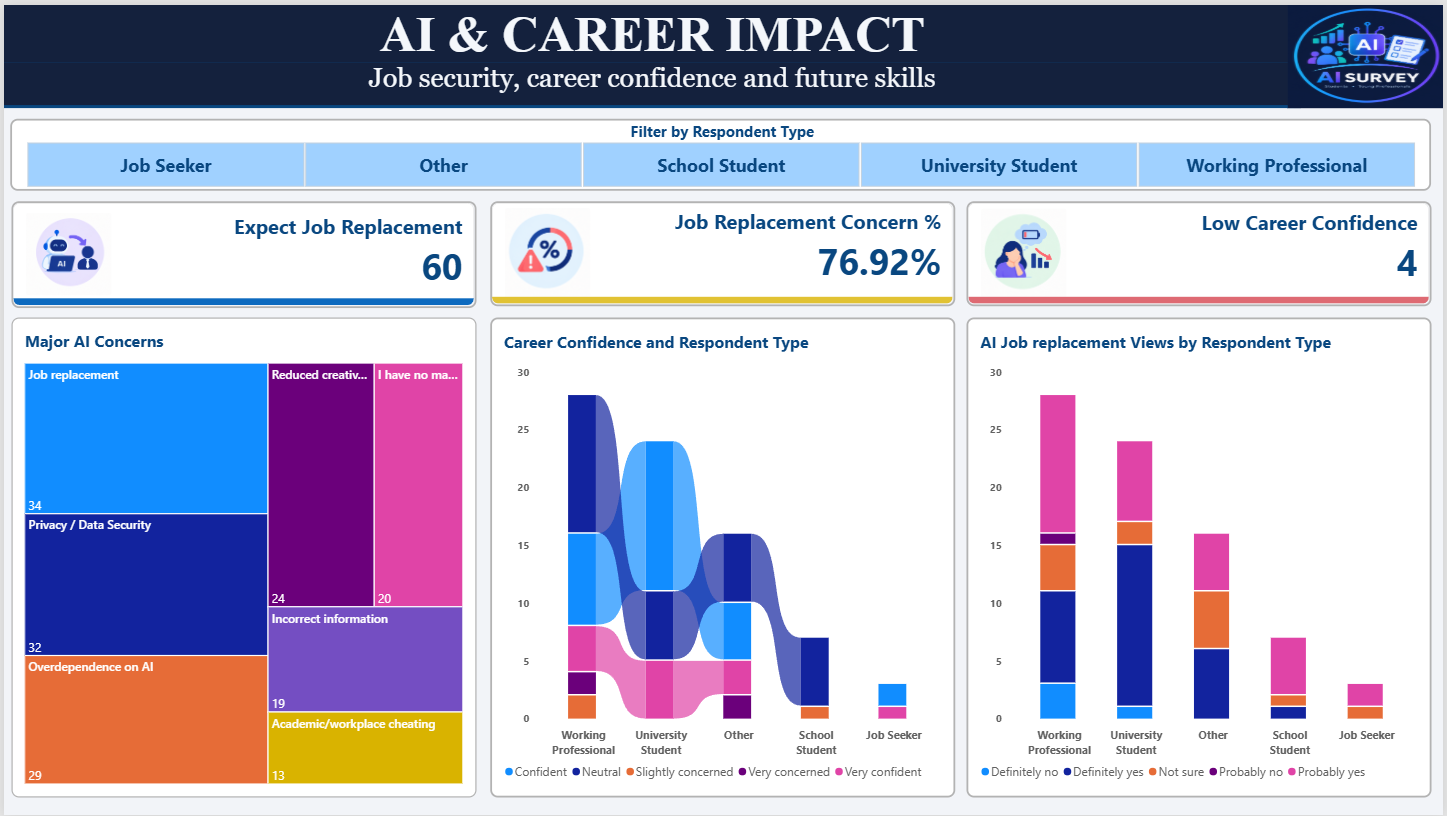

This screenshot's page, from the dashboard's own definition file:
{"tool":"powerbi","page":{"name":"AI & Career Impact","canvas":[1920,1080],"ordinal":2},"visuals":[{"type":"textbox","title":"AI & CAREER IMPACT ","box":[0,0,1728.5,92.4],"z":0},{"type":"textbox","title":"Job security, career confidence and future skills","box":[0,76.7,1728.5,61],"z":1000},{"type":"cardVisual","fields":{"Data":["AI Survey.Expect Job Replacement"]},"box":[10.5,261.6,620,142],"z":2000},{"type":"cardVisual","fields":{"Data":["AI Survey.Job Replacement Concern %"]},"box":[648.8,261.6,620,140],"z":3000},{"type":"cardVisual","fields":{"Data":["AI Survey.Low Career Confidence"]},"box":[1283.7,261.6,620,140],"z":4000},{"type":"slicer","title":"Filter by Respondent Type","fields":{"Values":["AI Survey.Respondent_Type "]},"box":[8.7,151.7,1894.2,95.9],"z":5000},{"type":"treemap","title":"Major AI Concerns","fields":{"Group":["AI Concerns.Concerns"],"Values":["CountNonNull(AI Concerns.Respondent_ID)"]},"box":[10,416,620,640],"z":6000},{"type":"ribbonChart","title":"Career Confidence and Respondent Type","fields":{"Category":["AI Survey.Respondent_Type "],"Series":["AI Survey.Career_Confidence "],"Y":["CountNonNull(AI Survey.Respondent_ID)"]},"box":[648,416,620,640],"z":7000},{"type":"columnChart","title":"AI Job replacement Views by Respondent Type","fields":{"Category":["AI Survey.Respondent_Type "],"Series":["AI Survey.AI_Job_Replacement_View "],"Y":["CountNonNull(AI Survey.Respondent_ID)"]},"box":[1284,416,620,640],"z":8000},{"type":"image","box":[1711.1,0,209.3,137.8],"z":9000}]}

Visuals, with their boxes in screenshot pixels (x1, y1, x2, y2), scaled from the page's 1920x1080 canvas onto the 1447x816 screenshot:
"AI & CAREER IMPACT " textbox: (0,0,1303,70)
"Job security, career confidence and future skills" textbox: (0,58,1303,104)
cardVisual - AI Survey.Expect Job Replacement: (8,198,475,305)
cardVisual - AI Survey.Job Replacement Concern %: (489,198,956,303)
cardVisual - AI Survey.Low Career Confidence: (967,198,1435,303)
"Filter by Respondent Type" slicer: (7,115,1434,187)
"Major AI Concerns" treemap: (8,314,475,798)
"Career Confidence and Respondent Type" ribbonChart: (488,314,956,798)
"AI Job replacement Views by Respondent Type" columnChart: (968,314,1435,798)
image: (1290,0,1446,104)
